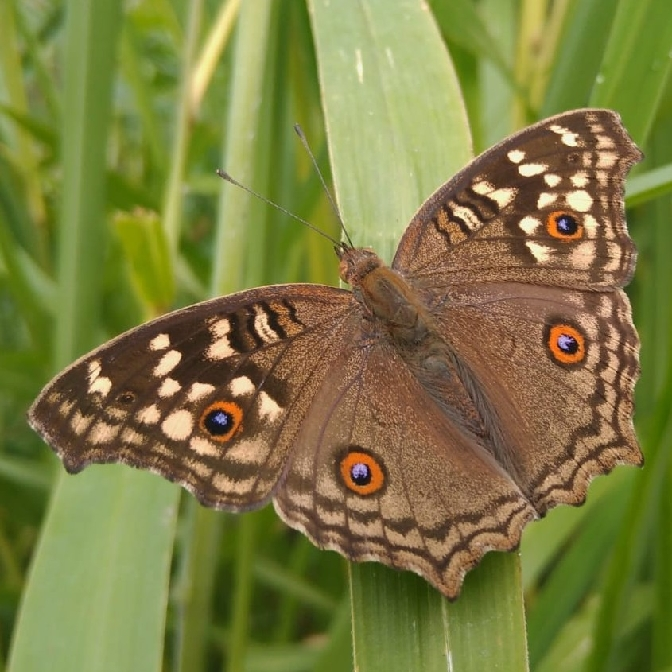Not_a_Chicken: (25, 114, 652, 588)
